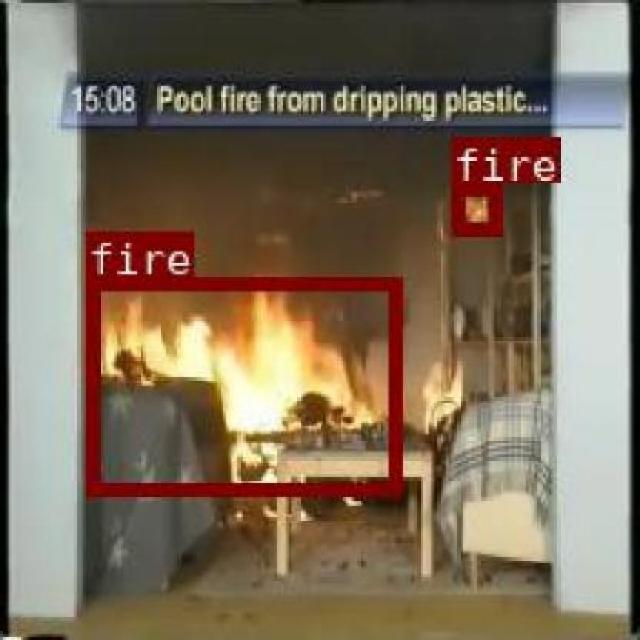Fire: (84, 276, 398, 492), (448, 182, 498, 232)
